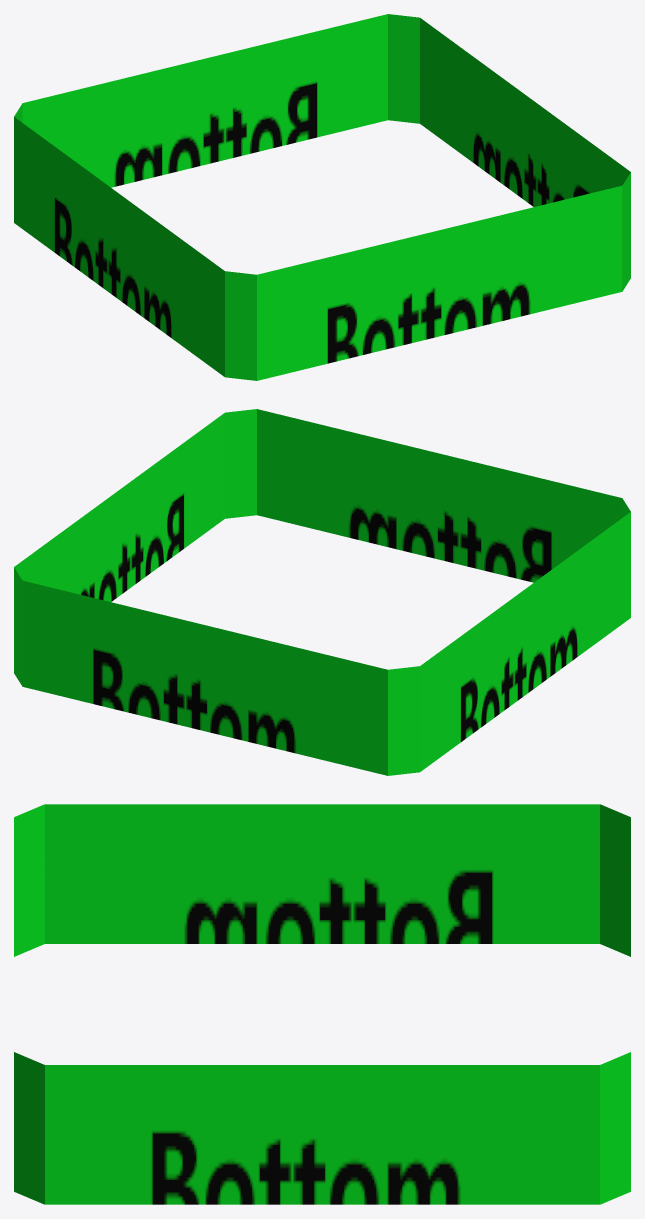
Rendered from ENV_1x1_Base_BuildingF.fbx.
The picture shows the model from 3 angles, top to bottom: view 1: azimuth 30°, elevation 25°; view 2: azimuth 150°, elevation 25°; view 3: azimuth 270°, elevation 25°; orthographic projection. The views are drawn at different scales.
Visible parts, largest first — view 1: ENV_2x2BuildingBase_F; view 2: ENV_2x2BuildingBase_F; view 3: ENV_2x2BuildingBase_F.
Part boxes in pixels (x1=…): ENV_2x2BuildingBase_F: x1=14, y1=14, x2=630, y2=380; ENV_2x2BuildingBase_F: x1=14, y1=409, x2=630, y2=775; ENV_2x2BuildingBase_F: x1=14, y1=804, x2=630, y2=1204.
Size of the model in its own units: 12 by 3 by 12.
